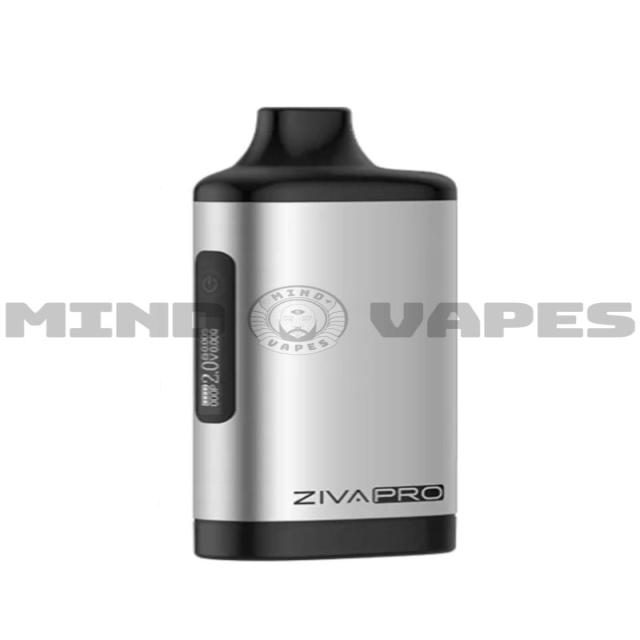Vapes: (190, 105, 460, 560)
